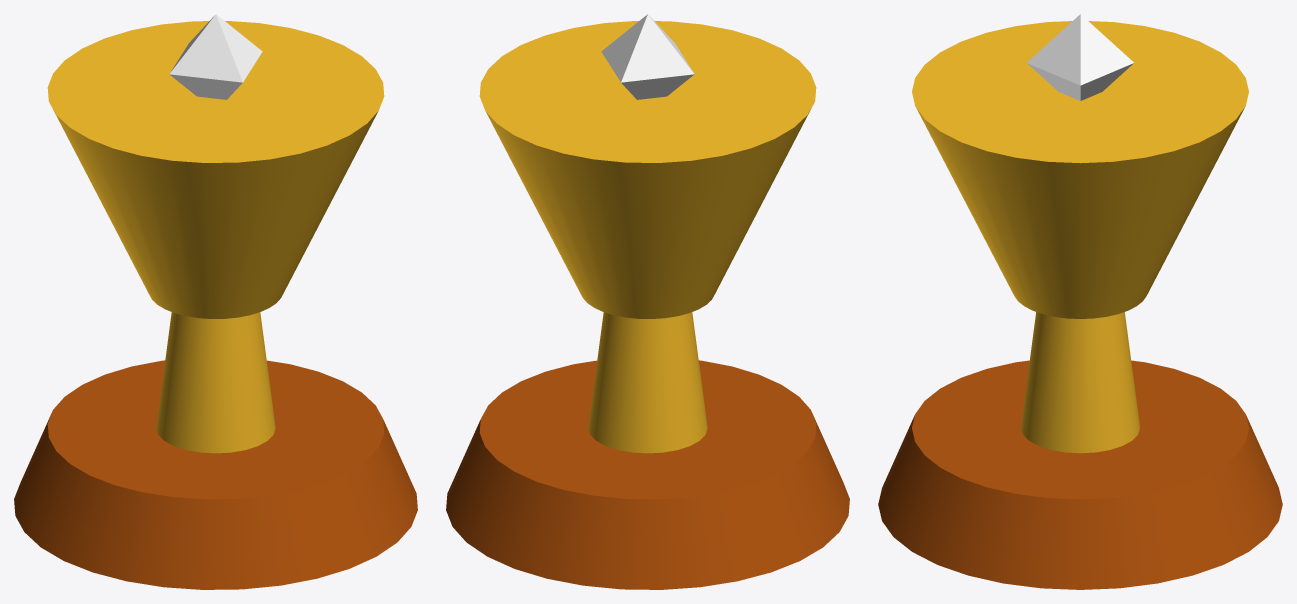
The model's file is trophy.glb.
3 renders of one model, left to right at view 1: azimuth 30°, elevation 25°; view 2: azimuth 150°, elevation 25°; view 3: azimuth 270°, elevation 25°, orthographic.
Parts seen in each view (by area): view 1: EcoLeaderboardTrophy; view 2: EcoLeaderboardTrophy; view 3: EcoLeaderboardTrophy.
Boxes of the visible parts, bbox=[...] form: EcoLeaderboardTrophy: bbox=[14, 14, 417, 589]; EcoLeaderboardTrophy: bbox=[446, 14, 849, 589]; EcoLeaderboardTrophy: bbox=[878, 14, 1282, 589].
Bounding box in the file's own units: 1.2 × 1.6 × 1.2.
